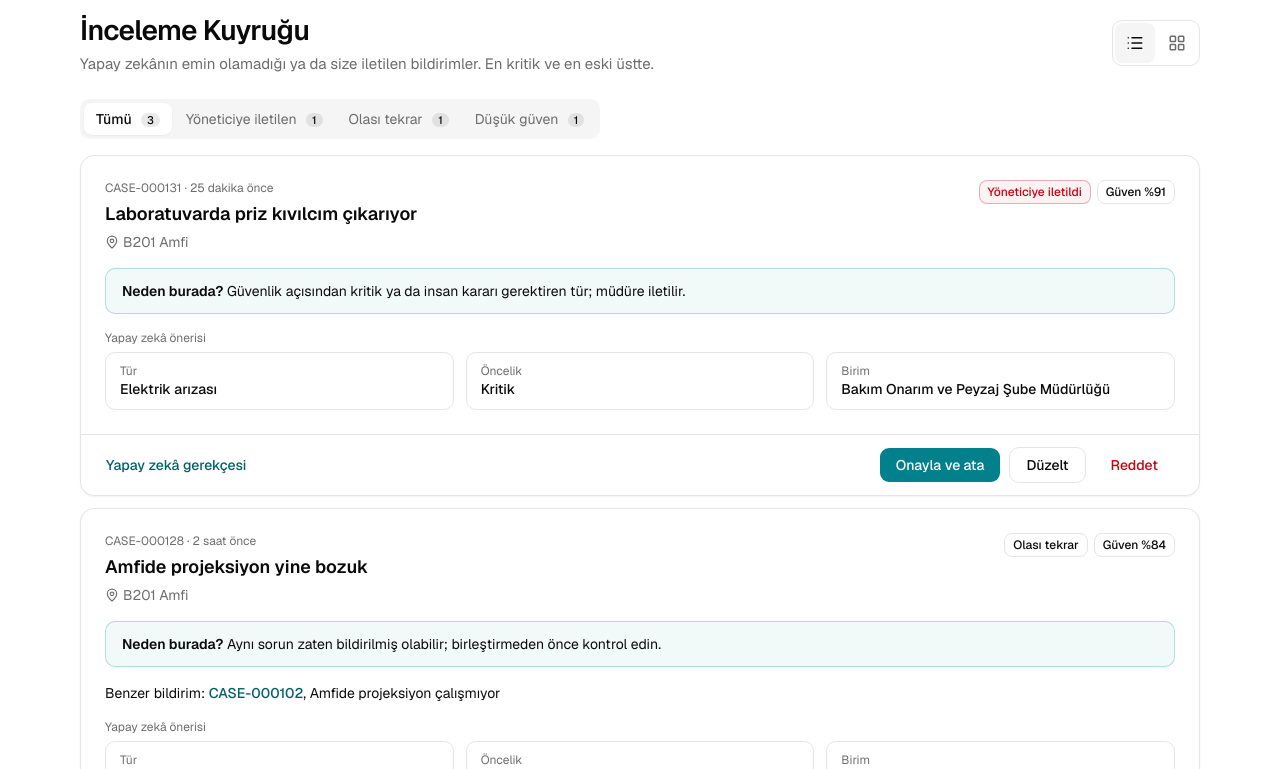
Scenario: ReviewQueue › opens the AI decision panel with every agent's reasons and model
The width and height of the screenshot is (1280, 769).
Click the button "Yapay zekâ gerekçesi" at (176, 465), box x1=93 y1=447 x2=259 y2=483
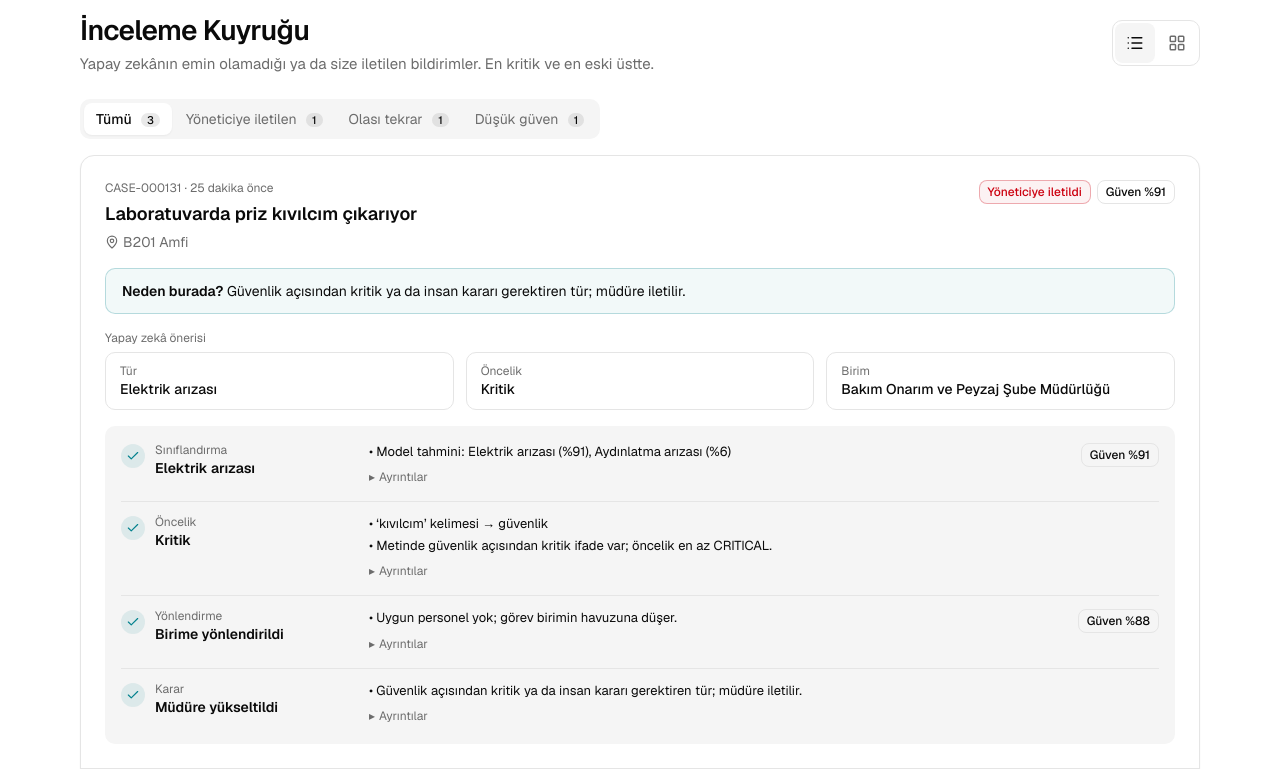
Now the text "Sınıflandırma" is shown, box x1=155 y1=442 x2=227 y2=458
Now the list item "• ‘kıvılcım’ kelimesi → güvenlik" is shown, box x1=369 y1=515 x2=548 y2=532
Now the text "Müdüre yükseltildi" is shown, box x1=155 y1=697 x2=278 y2=717
